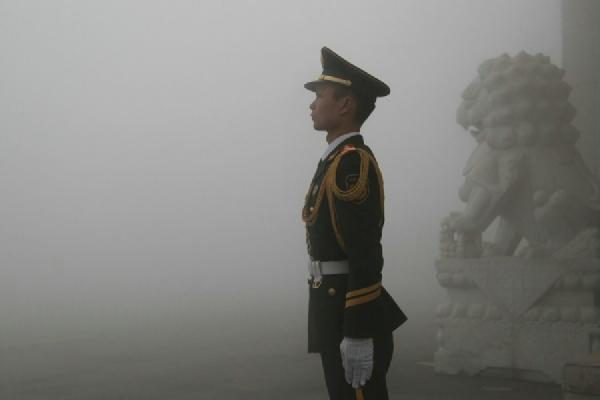person: (301, 46, 409, 400)
